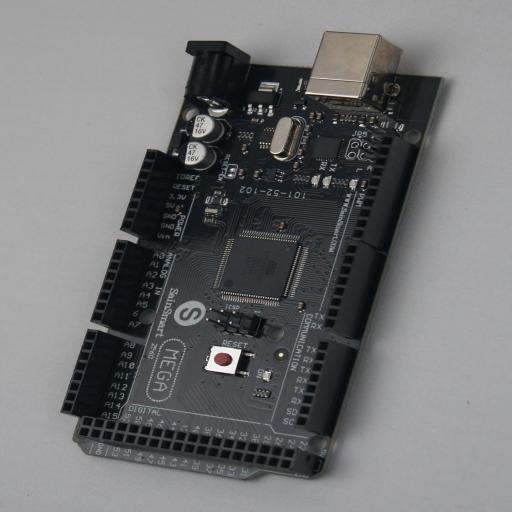Arduino Mega 2560 -Black-: (60, 31, 450, 481)
